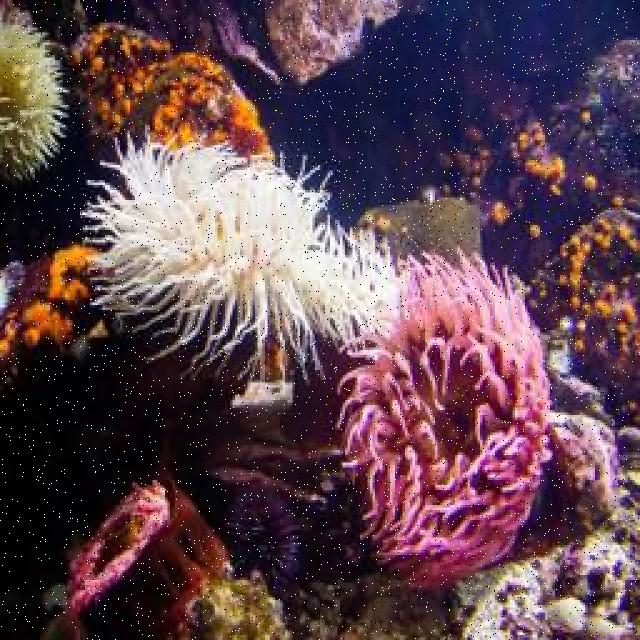reefs: (78, 124, 411, 388), (332, 240, 556, 594), (1, 11, 70, 181)
